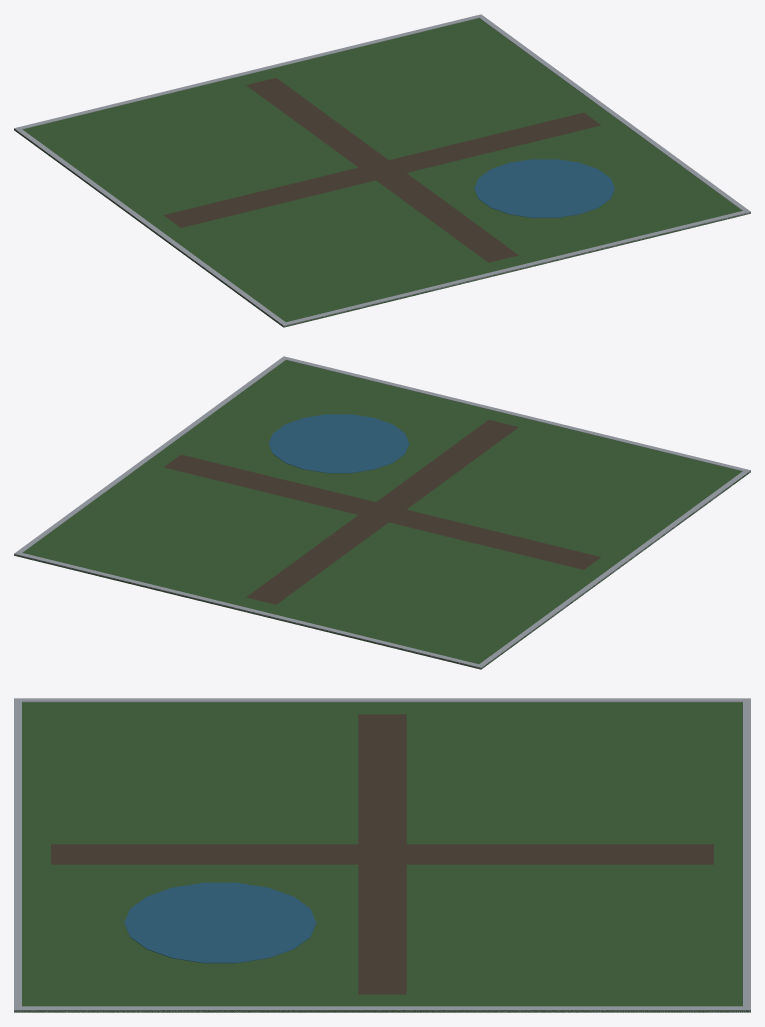
The model's file is env_park.glb.
3 views of the same model, one above another, from view 1: azimuth 30°, elevation 25°; view 2: azimuth 150°, elevation 25°; view 3: azimuth 270°, elevation 25° (orthographic). The views are drawn at different scales.
Parts seen in each view (by area): view 1: Ground, Paths, Pond, Kerb_S, Kerb_W, Kerb_N, Kerb_E; view 2: Ground, Paths, Pond, Kerb_N, Kerb_W, Kerb_S, Kerb_E; view 3: Ground, Paths, Pond, Kerb_E, Kerb_W, Kerb_S, Kerb_N.
Part boxes in pixels (x1=…): Ground: x1=14, y1=18, x2=750, y2=327; Paths: x1=163, y1=78, x2=601, y2=262; Pond: x1=474, y1=159, x2=614, y2=217; Kerb_S: x1=281, y1=210, x2=750, y2=326; Kerb_W: x1=14, y1=128, x2=285, y2=327; Kerb_N: x1=14, y1=14, x2=483, y2=130; Kerb_E: x1=477, y1=14, x2=750, y2=214; Ground: x1=14, y1=360, x2=750, y2=669; Paths: x1=163, y1=420, x2=601, y2=604; Pond: x1=268, y1=414, x2=409, y2=473; Kerb_N: x1=14, y1=553, x2=483, y2=669; Kerb_W: x1=476, y1=470, x2=750, y2=668; Kerb_S: x1=281, y1=357, x2=750, y2=472; Kerb_E: x1=14, y1=356, x2=288, y2=556; Ground: x1=14, y1=702, x2=750, y2=1012; Paths: x1=51, y1=714, x2=713, y2=994; Pond: x1=124, y1=882, x2=316, y2=963; Kerb_E: x1=14, y1=1006, x2=750, y2=1012; Kerb_W: x1=14, y1=698, x2=750, y2=702; Kerb_S: x1=14, y1=698, x2=21, y2=1012; Kerb_N: x1=743, y1=698, x2=750, y2=1012.
Size of the model in its own units: 46 by 0.19 by 46.
